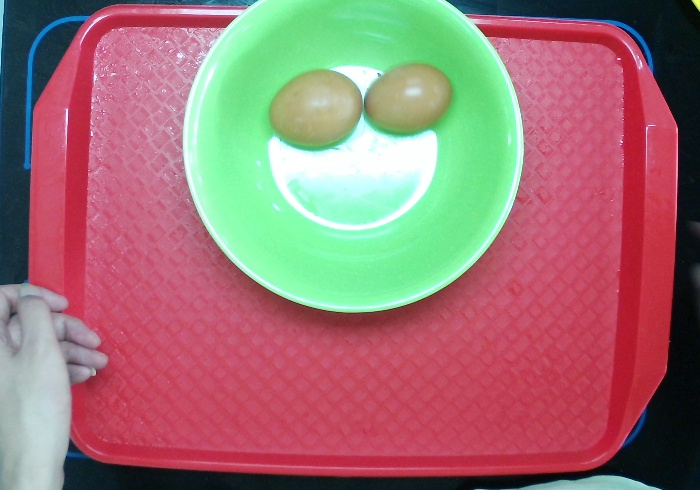YKMZ-Lv_Se_Tang_Wan: (180, 1, 526, 318)
